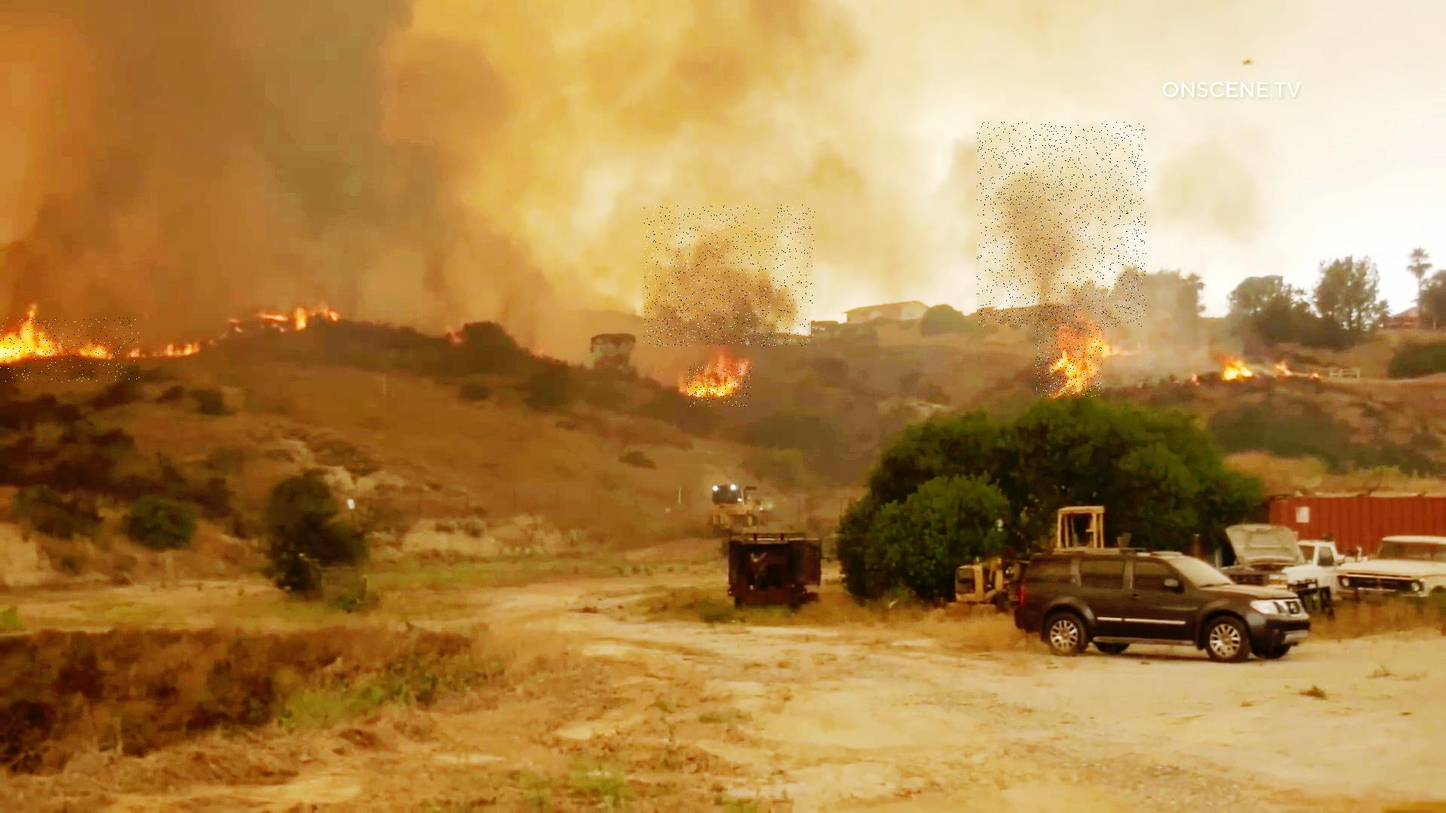fire: (0, 318, 139, 382), (1036, 301, 1102, 397), (688, 364, 752, 407)
smoke: (977, 123, 1147, 327), (644, 205, 815, 347)
